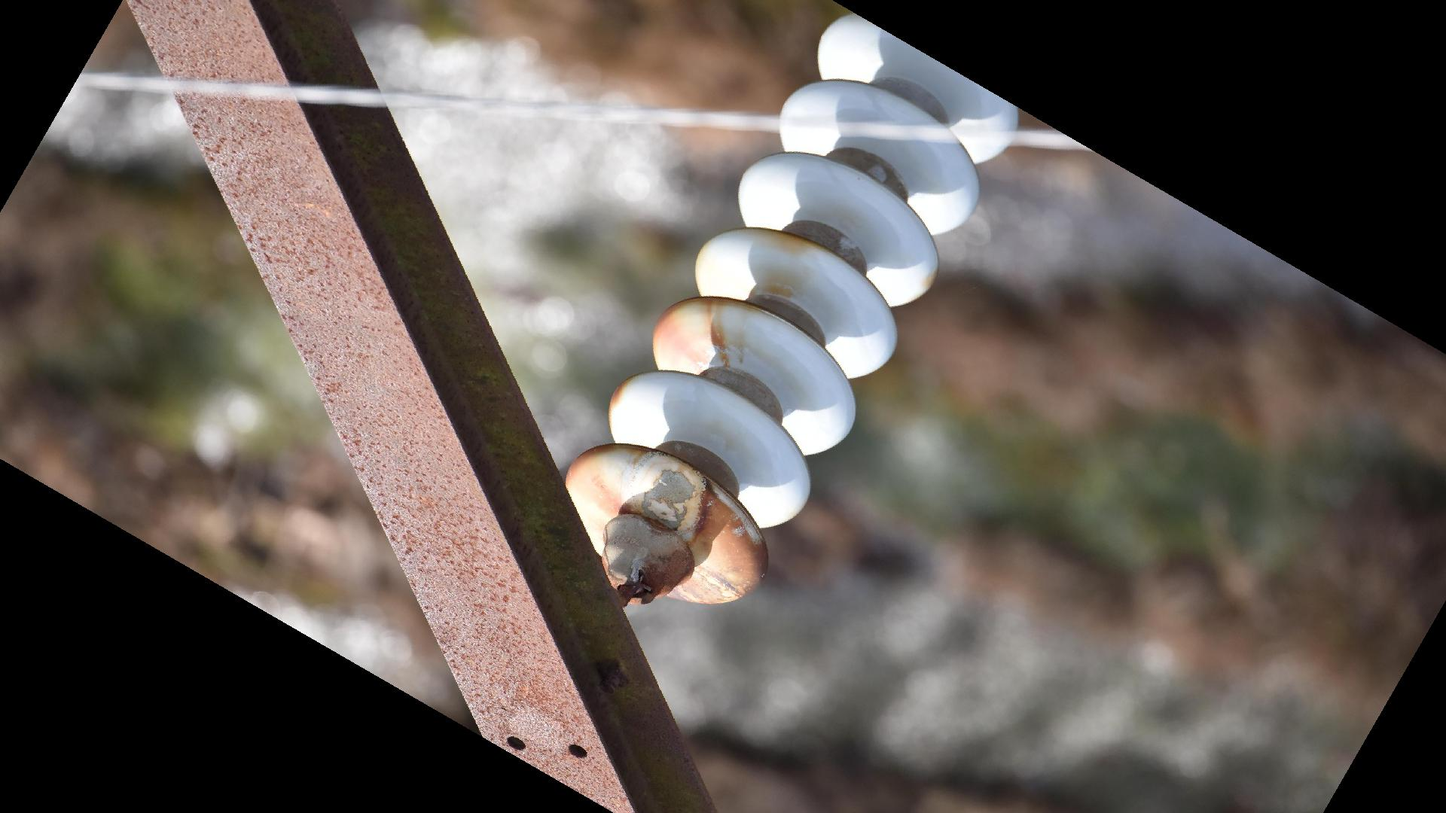insulator: (556, 1, 1030, 613)
insulator_flashover: (621, 447, 710, 536), (676, 563, 746, 607)
